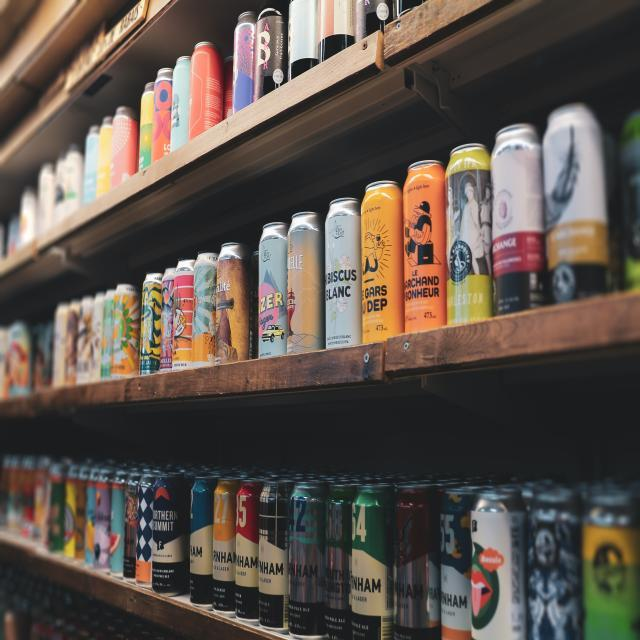Imprecise: (211, 24, 237, 120)
